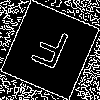F: (25, 25, 72, 79)
